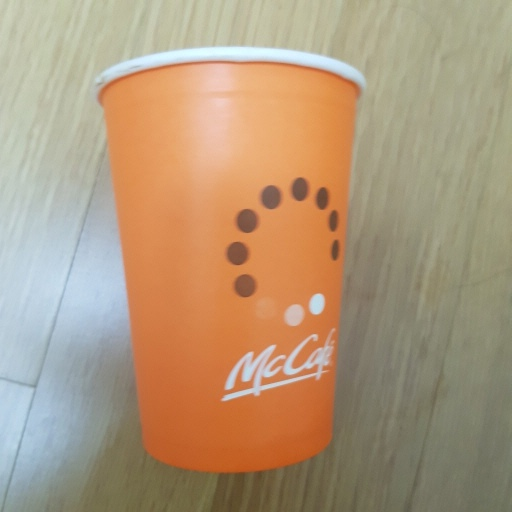Paper_1: (92, 44, 373, 480)
